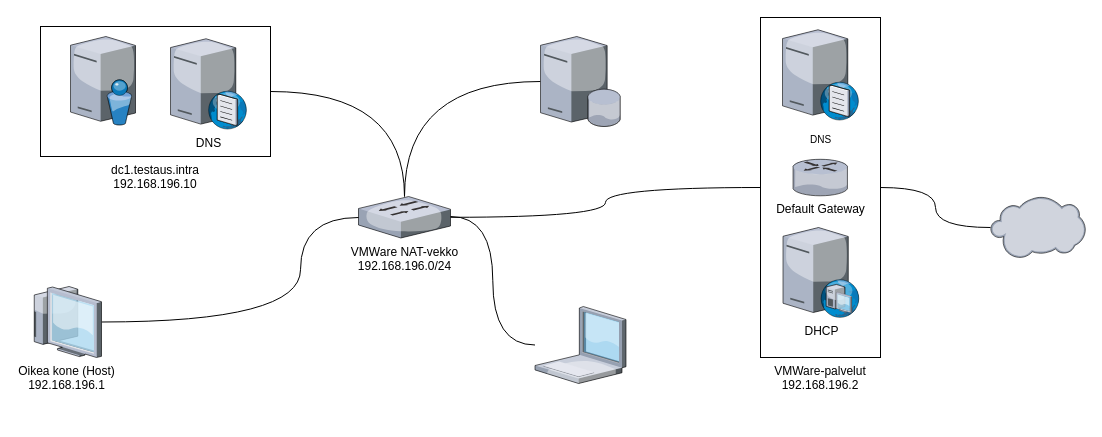
The diagram is 1102 pixels wide and 437 high, and some of its shapes have lost their labels. The centre of each missing label's shape, as x and y in pixels:
AD: (x=102, y=80)
Internet: (x=1037, y=227)
koodausta.testaus.intra 192.168.196.101: (x=580, y=344)
sql1.testaus.intra 192.168.196.50: (x=580, y=81)
